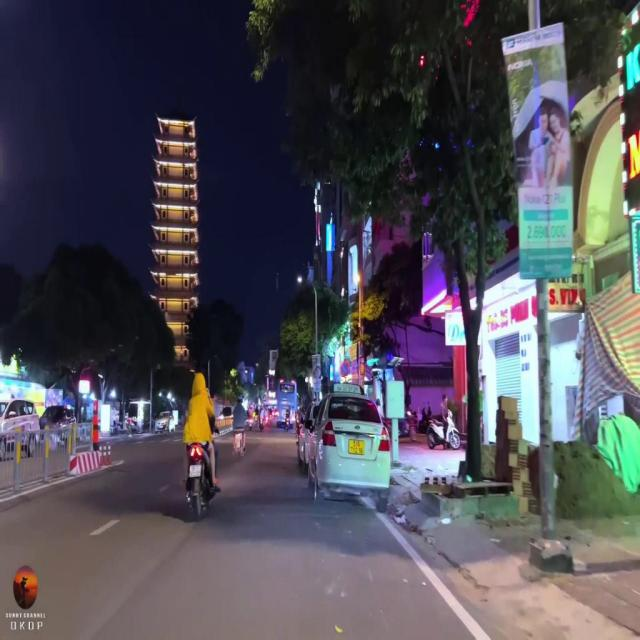cam_do_xe: (341, 361, 350, 377)
